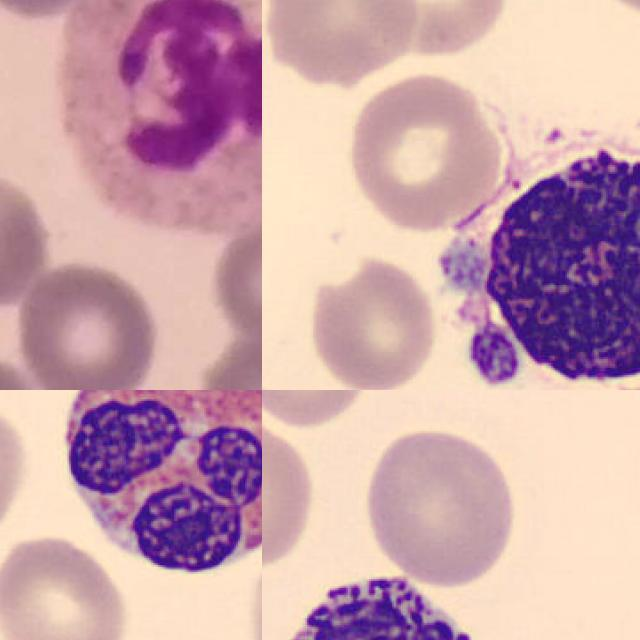Basophil: (426, 130, 640, 390), (262, 554, 527, 640)
Eosinophil: (46, 390, 262, 589)
Neutrophil: (62, 0, 262, 232)
RBC: (342, 68, 509, 236), (357, 422, 522, 592), (304, 255, 441, 390), (262, 0, 421, 89), (0, 533, 131, 640), (348, 0, 511, 63), (262, 411, 321, 572), (262, 390, 376, 431), (0, 397, 32, 540)
